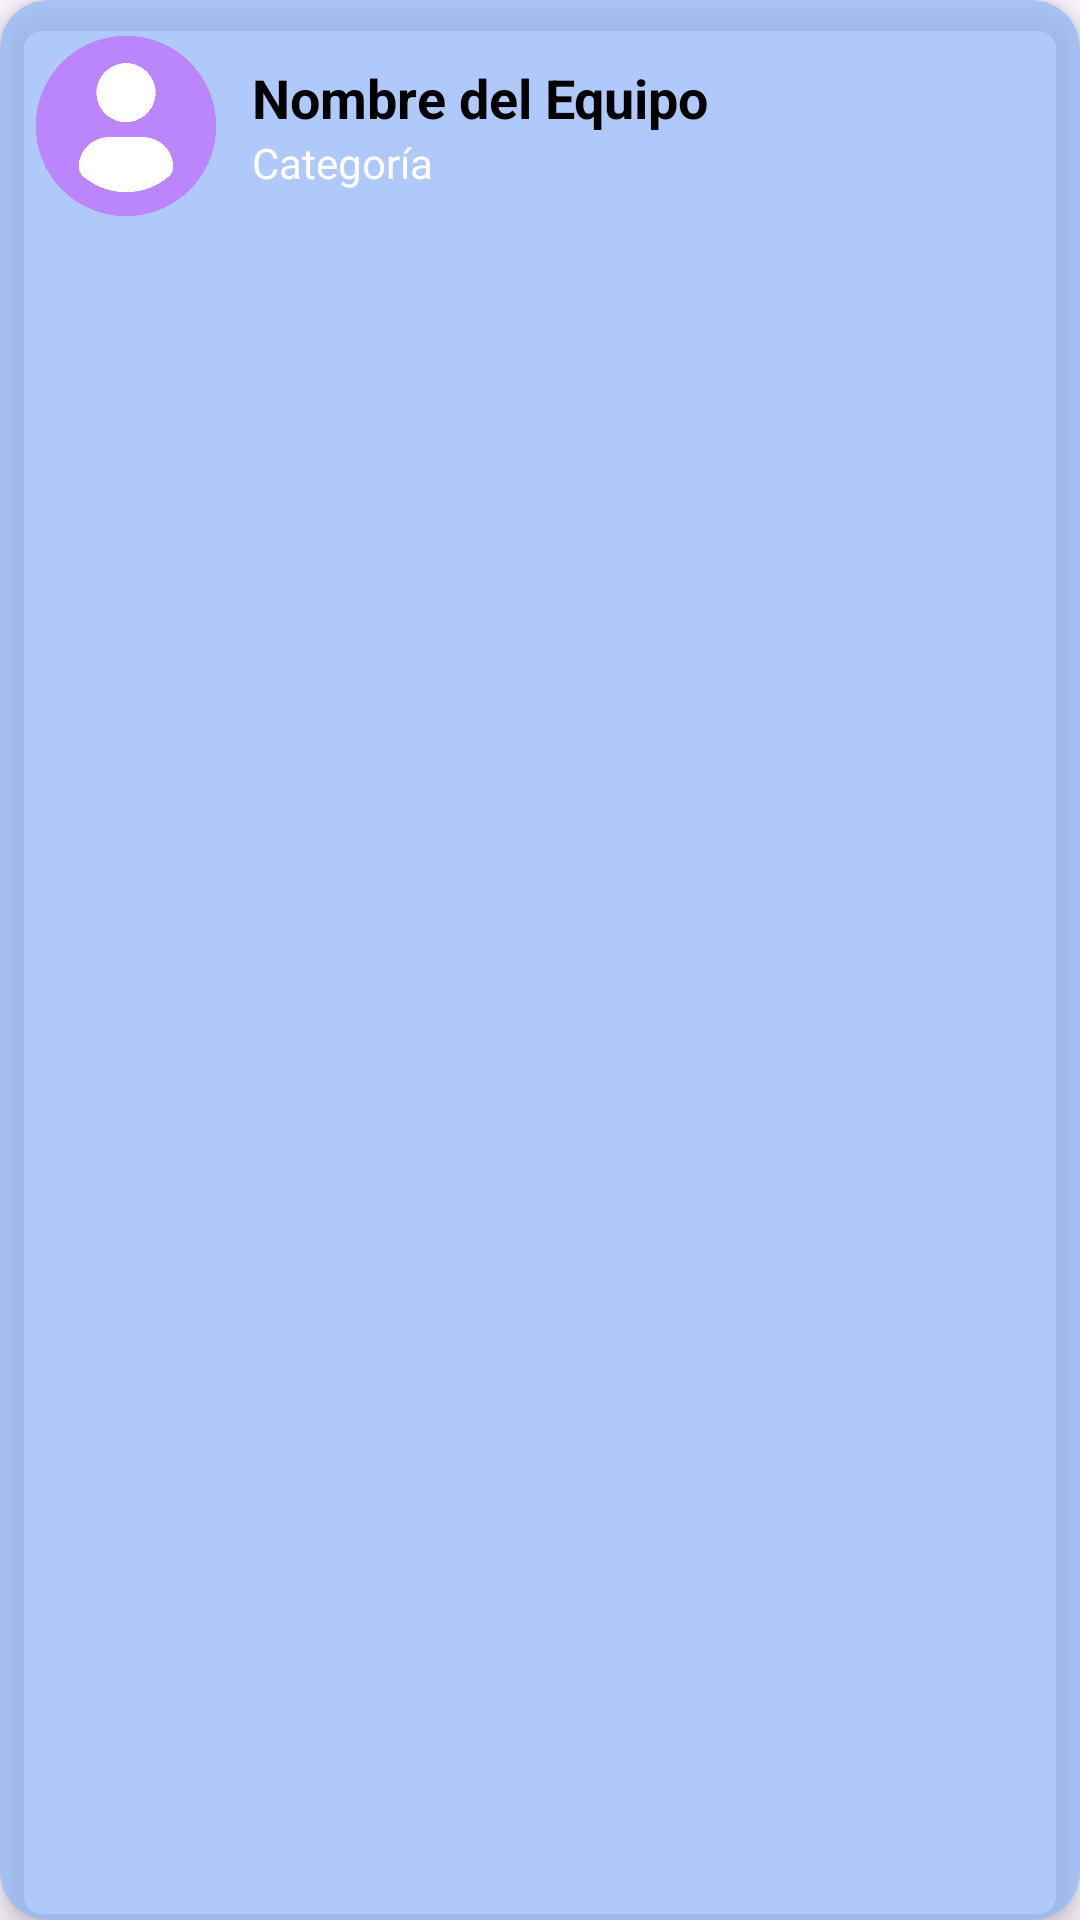

Screen size 1080px x 1920px. Icon name, then its box in pixels as (x1,y1,x2,y2):
Imagen equipo: (36,36,216,216)
